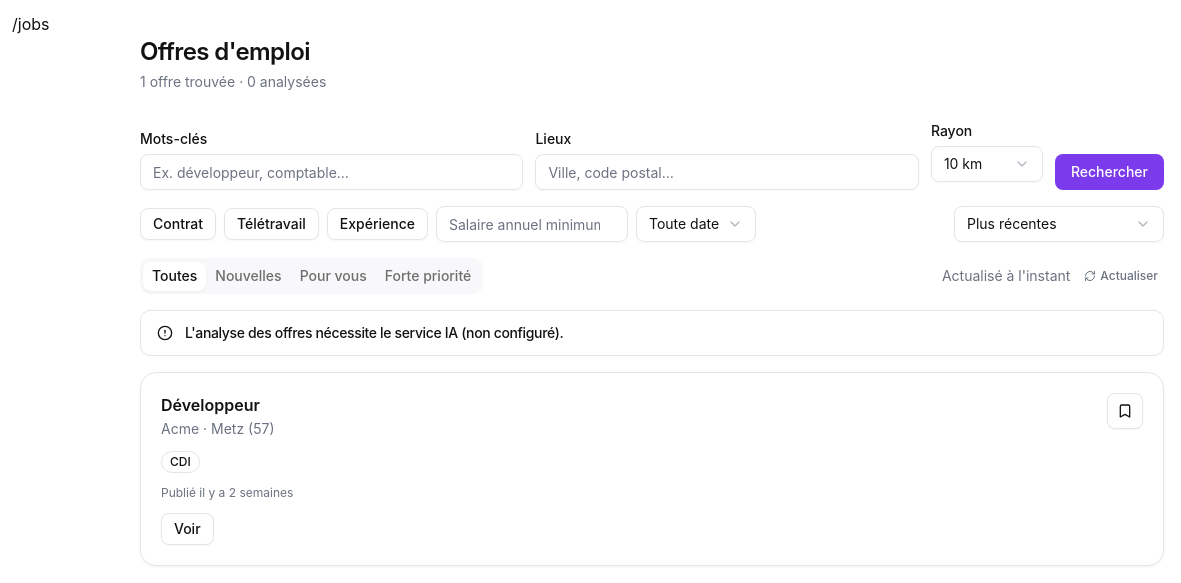
Test: JobsPage › garde les bandeaux IA/profil visibles sur Forte priorite meme a 0 resultat
Expected: the text "L'analyse des offres nécessite le service IA (non configuré)." is shown, top-left (185, 324), bottom-right (563, 341)
Click the tab "Forte priorité". click: (428, 276)
box: top-left (376, 262), bottom-right (480, 290)
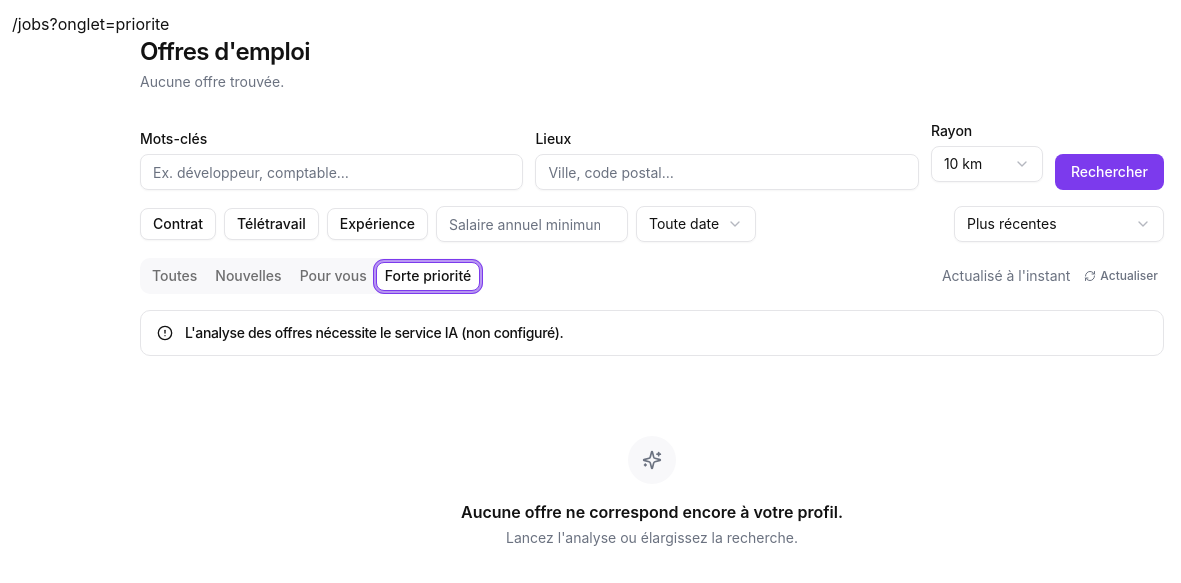
Expected: the text "L'analyse des offres nécessite le service IA (non configuré)." is shown, top-left (185, 324), bottom-right (563, 341)
Now the text with test id "location" shows "onglet=priorite", box top-left (12, 14), bottom-right (170, 34)
